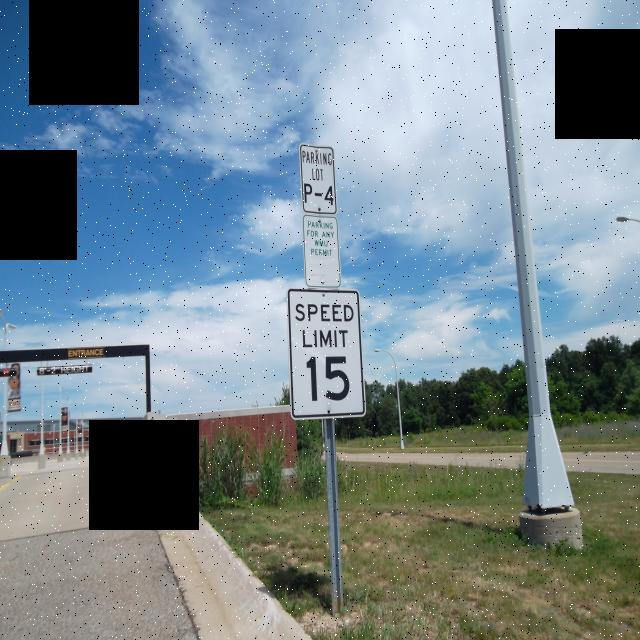regulatory: (285, 286, 371, 423), (298, 214, 345, 290), (298, 140, 339, 214)
